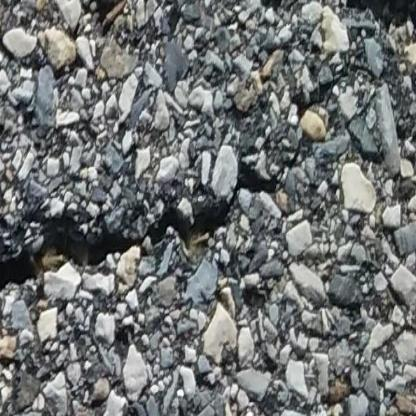Cracks: (0, 187, 230, 294), (340, 0, 416, 53)
